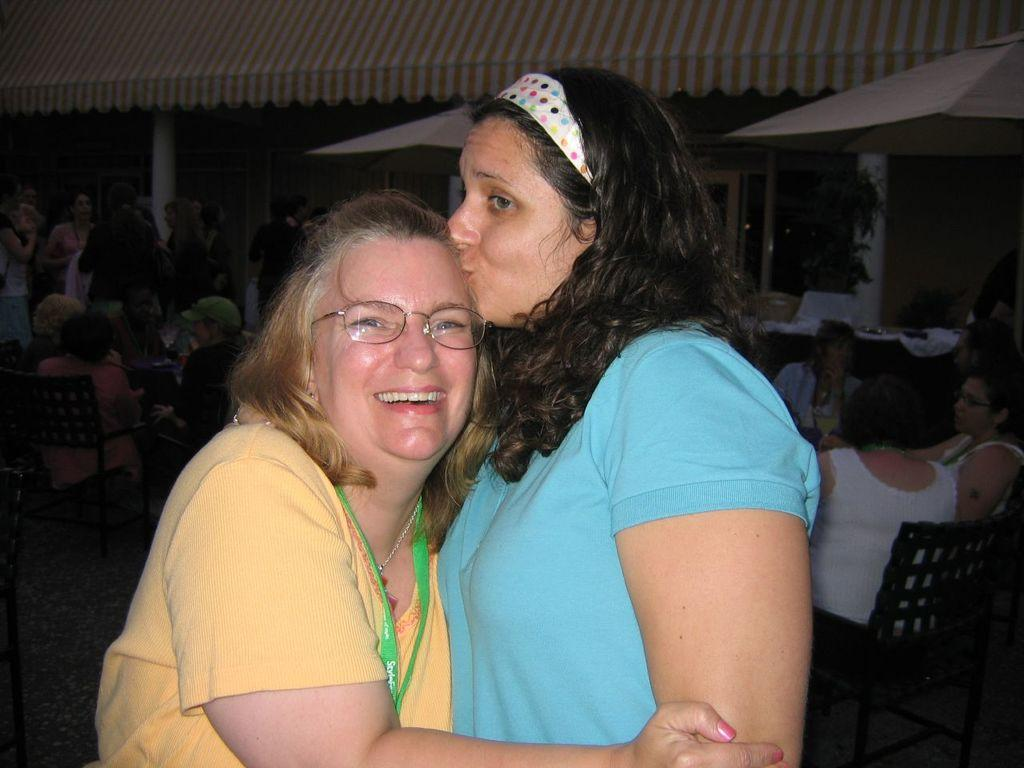Hat: (178, 296, 244, 330)
